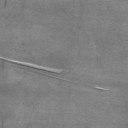finishing roll printing: (0, 56, 75, 83), (91, 86, 110, 92)
